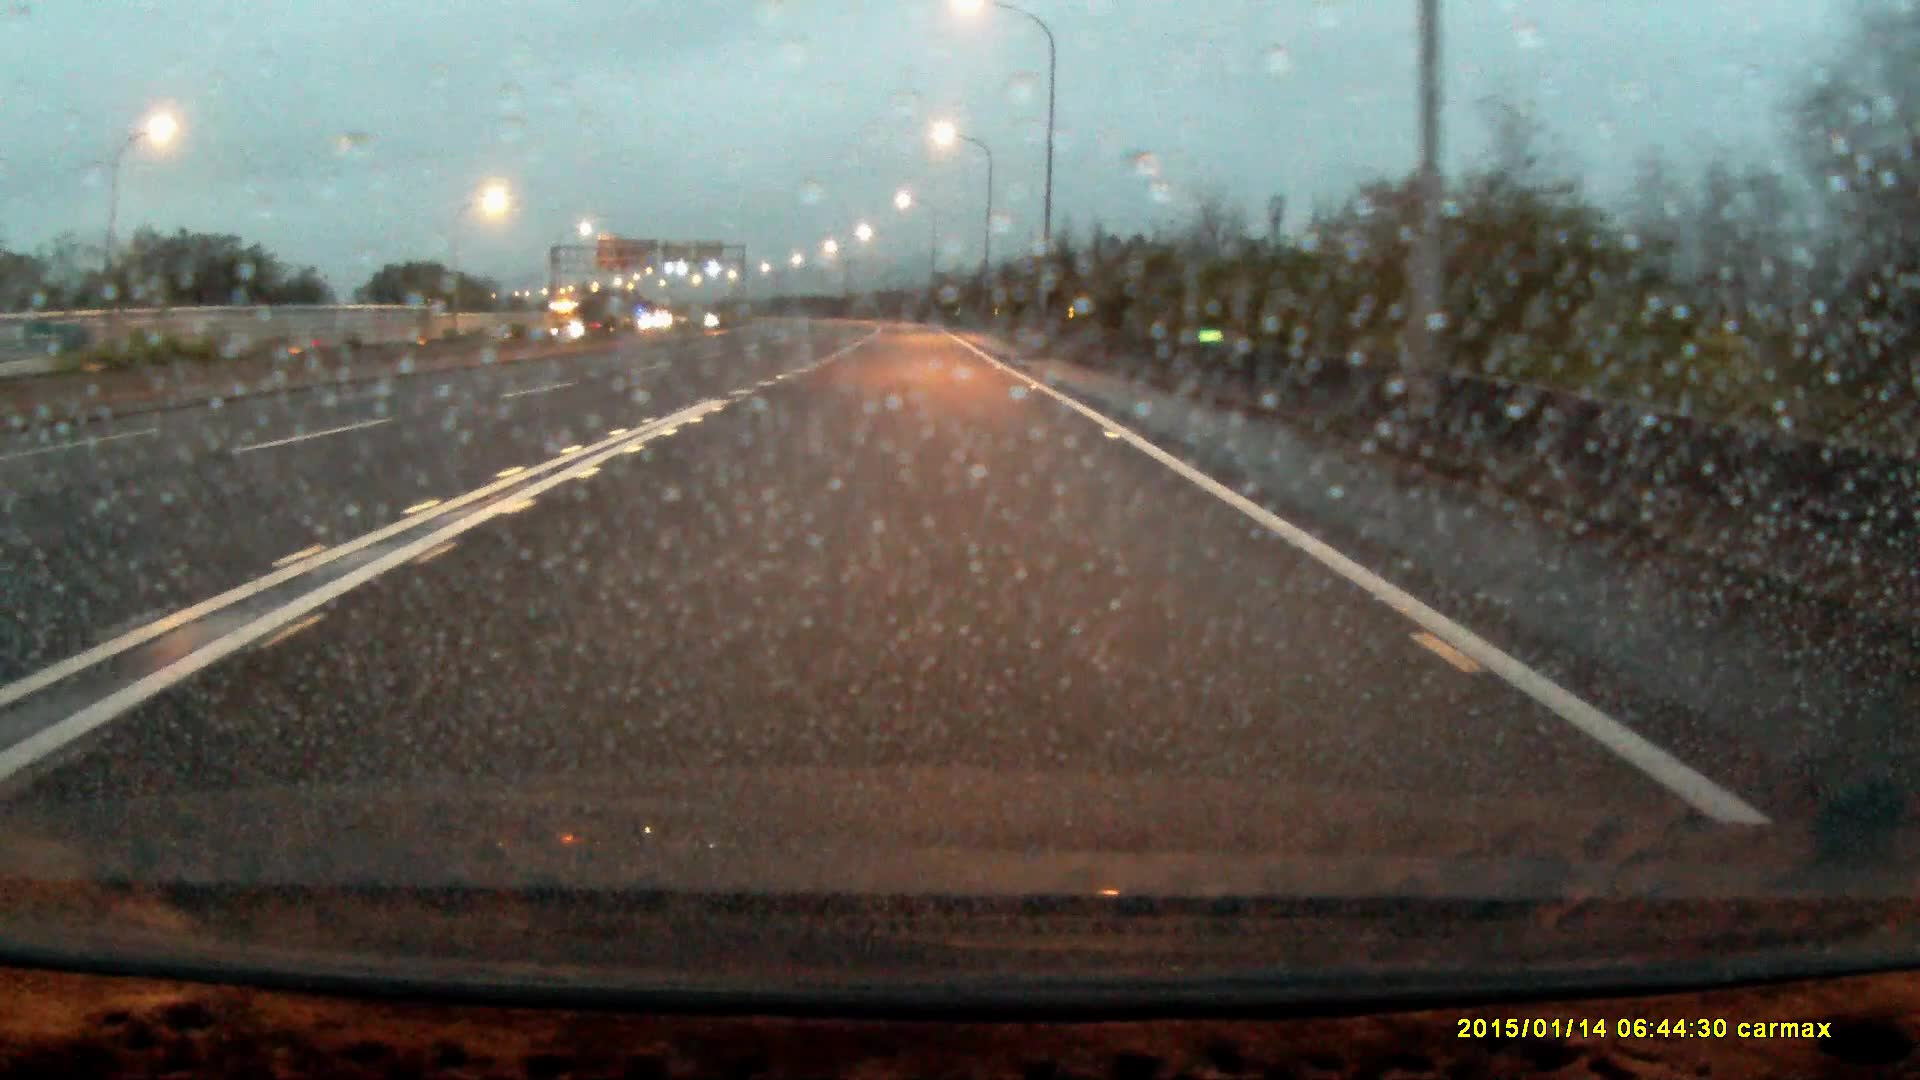vehicle: (545, 295, 603, 345)
